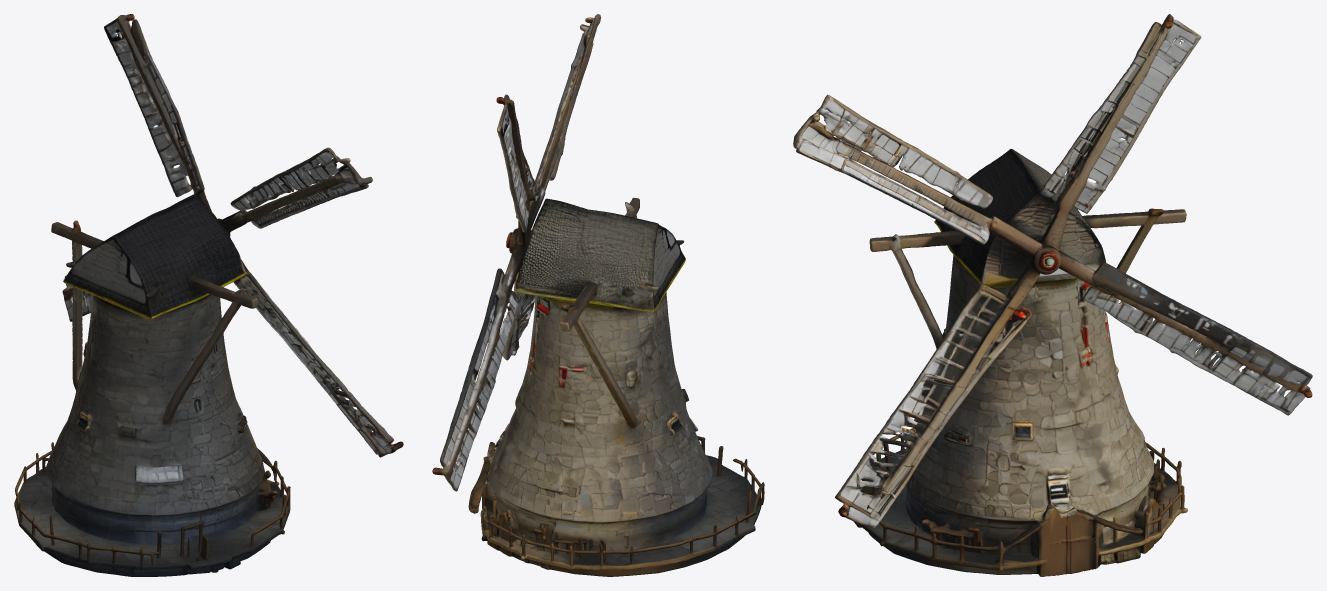
File: building-windmill-large.glb
3 renders of one model, left to right at view 1: azimuth 30°, elevation 25°; view 2: azimuth 150°, elevation 25°; view 3: azimuth 270°, elevation 25°, orthographic. The views are drawn at different scales.
Visible parts, largest first — view 1: tripo_node_e1aea887-357b-477c-9f3c-3e82f4c50fb7; view 2: tripo_node_e1aea887-357b-477c-9f3c-3e82f4c50fb7; view 3: tripo_node_e1aea887-357b-477c-9f3c-3e82f4c50fb7.
Boxes of the visible parts, x1,y1,x2,y2 form: tripo_node_e1aea887-357b-477c-9f3c-3e82f4c50fb7: [14, 14, 403, 576]; tripo_node_e1aea887-357b-477c-9f3c-3e82f4c50fb7: [432, 14, 764, 576]; tripo_node_e1aea887-357b-477c-9f3c-3e82f4c50fb7: [793, 14, 1312, 576].
Bounding box in the file's own units: 9.82 × 14 × 12.62.
Materials: 1 (1 with a texture image).
